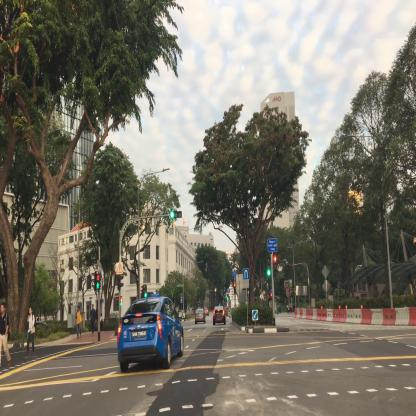green_traffic_light: (266, 257, 271, 276), (170, 212, 182, 218)
